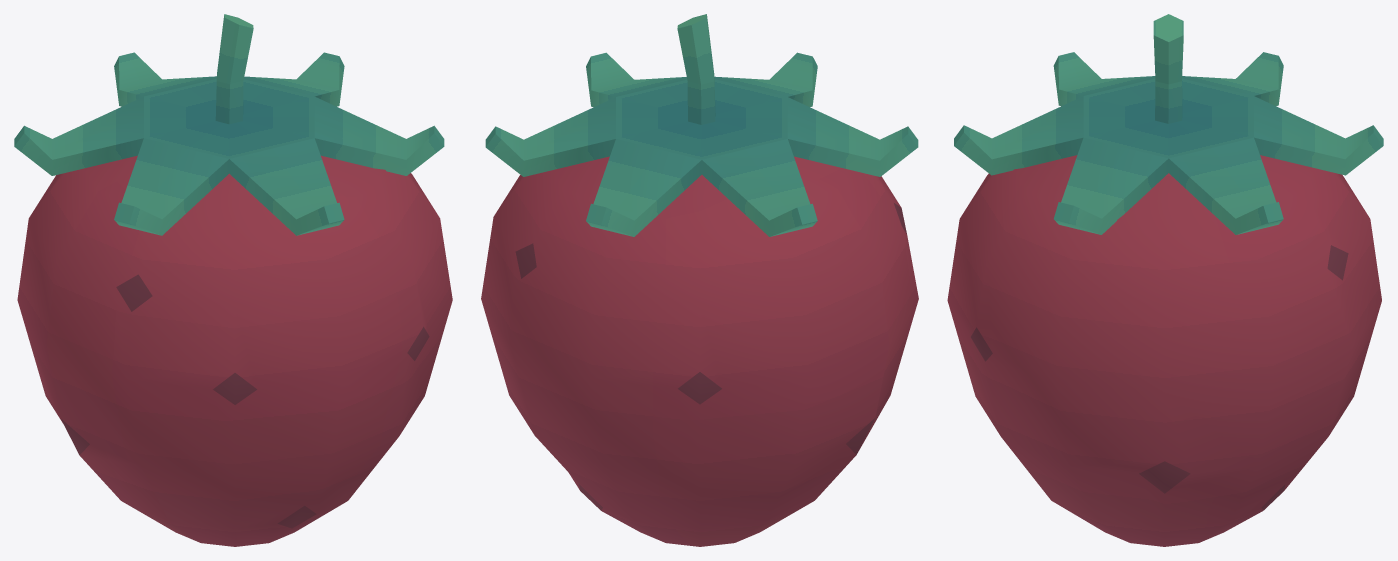
Rendered from strawberry.glb.
3 renders of one model, left to right at view 1: azimuth 30°, elevation 25°; view 2: azimuth 150°, elevation 25°; view 3: azimuth 270°, elevation 25°, orthographic.
Visible parts, largest first — view 1: mesh_strawberry_01 - Default.001_0; view 2: mesh_strawberry_01 - Default.001_0; view 3: mesh_strawberry_01 - Default.001_0.
Boxes of the visible parts, x1=… form: mesh_strawberry_01 - Default.001_0: x1=14, y1=14, x2=452, y2=546; mesh_strawberry_01 - Default.001_0: x1=481, y1=14, x2=918, y2=546; mesh_strawberry_01 - Default.001_0: x1=947, y1=14, x2=1383, y2=546.
Size of the model in its own units: 99.36 by 131 by 99.67.
Materials: 1 (1 with a texture image).
